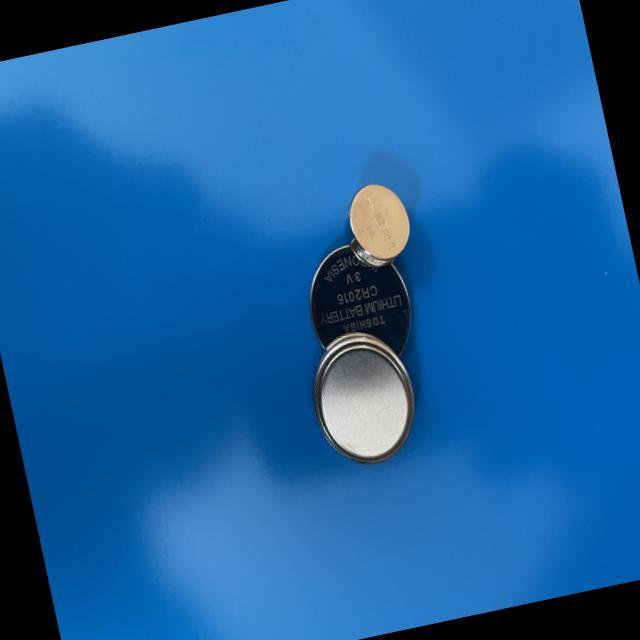COIN: (296, 324, 426, 478), (296, 232, 423, 380), (338, 172, 422, 274)
